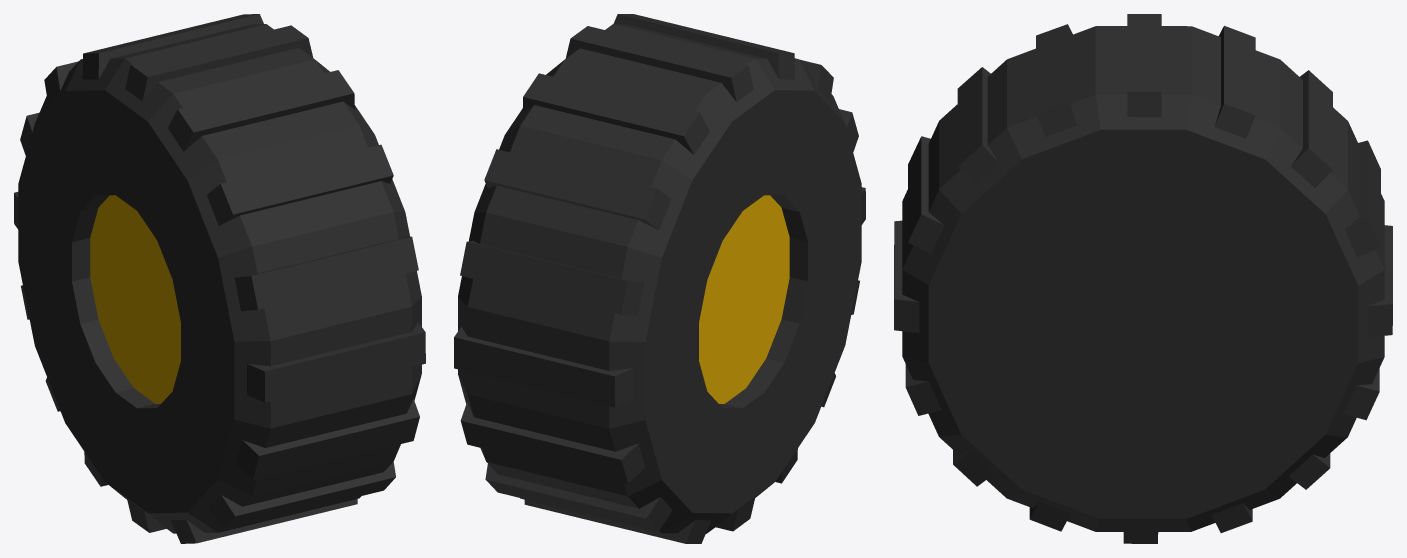
The model's file is SMALL_WH.fbx.
3 renders of one model, left to right at view 1: azimuth 30°, elevation 25°; view 2: azimuth 150°, elevation 25°; view 3: azimuth 270°, elevation 25°, orthographic.
Visible parts, largest first — view 1: Cylinder.003, Cube.008; view 2: Cylinder.003, Cube.008; view 3: Cylinder.003, Cube.008.
Boxes of the visible parts, x1,y1,x2,y2 form: Cylinder.003: [18, 24, 421, 533]; Cube.008: [14, 14, 425, 543]; Cylinder.003: [458, 24, 861, 533]; Cube.008: [454, 14, 865, 543]; Cylinder.003: [902, 26, 1384, 531]; Cube.008: [894, 14, 1392, 543].
Bounding box in the file's own units: 78.64 × 182 × 182.
